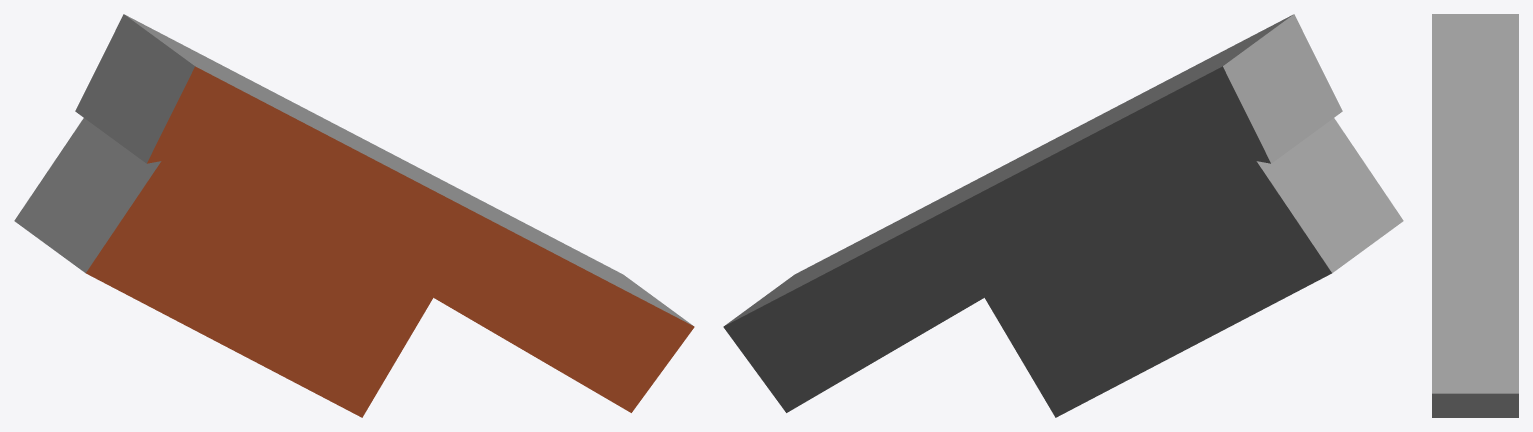
Rendered from construction_6358_assumed_A_Casa_h6m.obj.
3 renders of one model, left to right at view 1: azimuth 30°, elevation 25°; view 2: azimuth 150°, elevation 25°; view 3: azimuth 270°, elevation 25°, orthographic. The views are drawn at different scales.
Parts seen in each view (by area): view 1: construction_6358_assumed_A_Casa; view 2: construction_6358_assumed_A_Casa; view 3: construction_6358_assumed_A_Casa.
Part boxes in pixels (x1,y1,x2,y2): construction_6358_assumed_A_Casa: (14, 14, 694, 417); construction_6358_assumed_A_Casa: (723, 14, 1403, 417); construction_6358_assumed_A_Casa: (1432, 14, 1518, 417).
Size of the model in its own units: 29.51 by 20.99 by 6.
